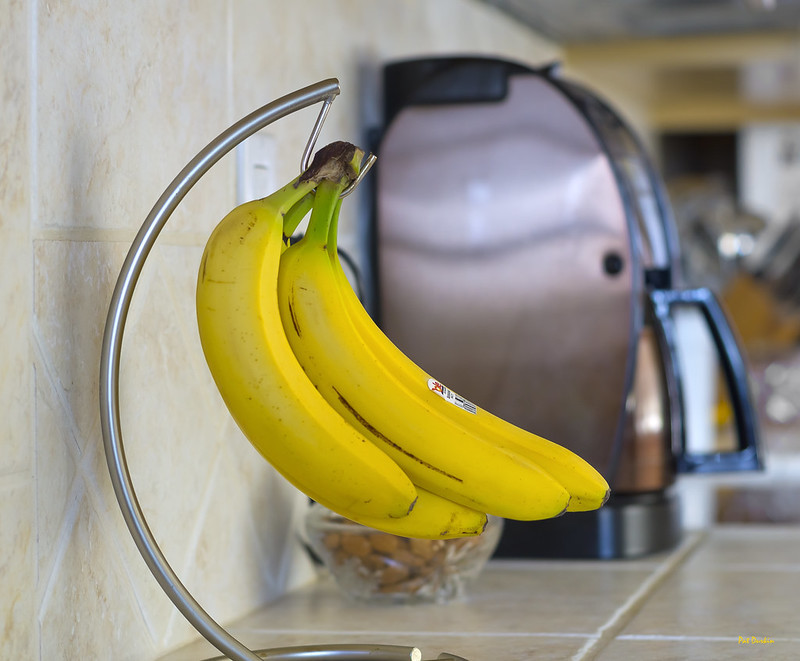banana: (192, 150, 628, 537)
